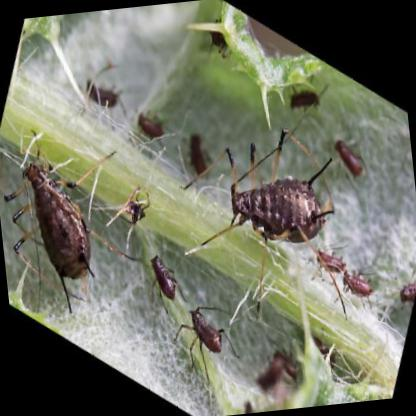uroleucon compositae: (3, 130, 115, 313), (213, 126, 333, 245)
